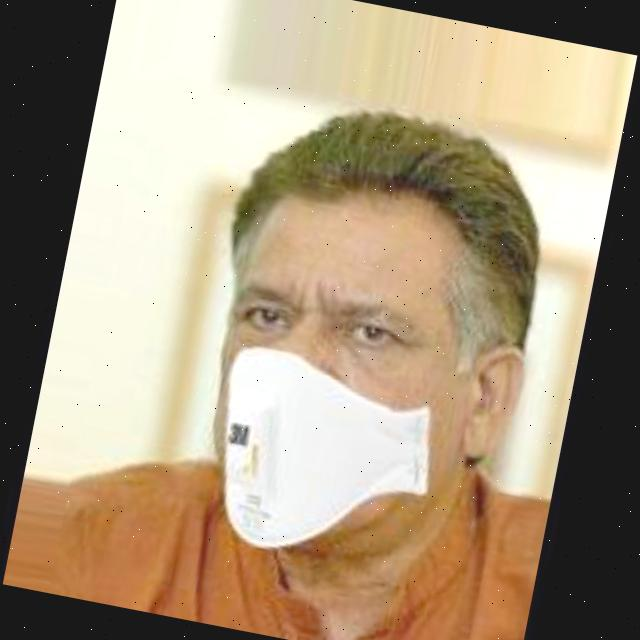suspicion: (146, 113, 570, 597)
